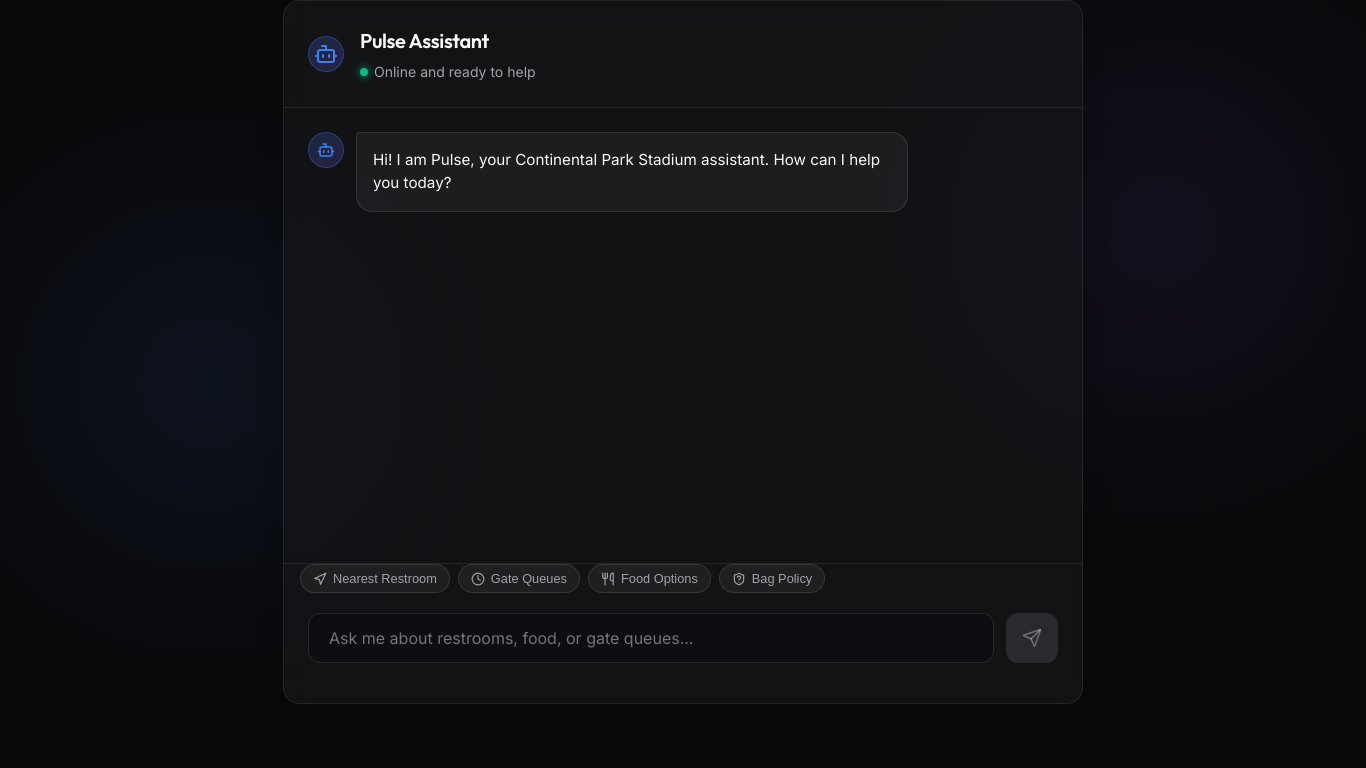
Scenario: FanChat Component › handles API errors gracefully
In the field with placeholder "Ask me about restrooms, food, or gate queues...": [651, 638] box [308,613,994,663], type "Test error"
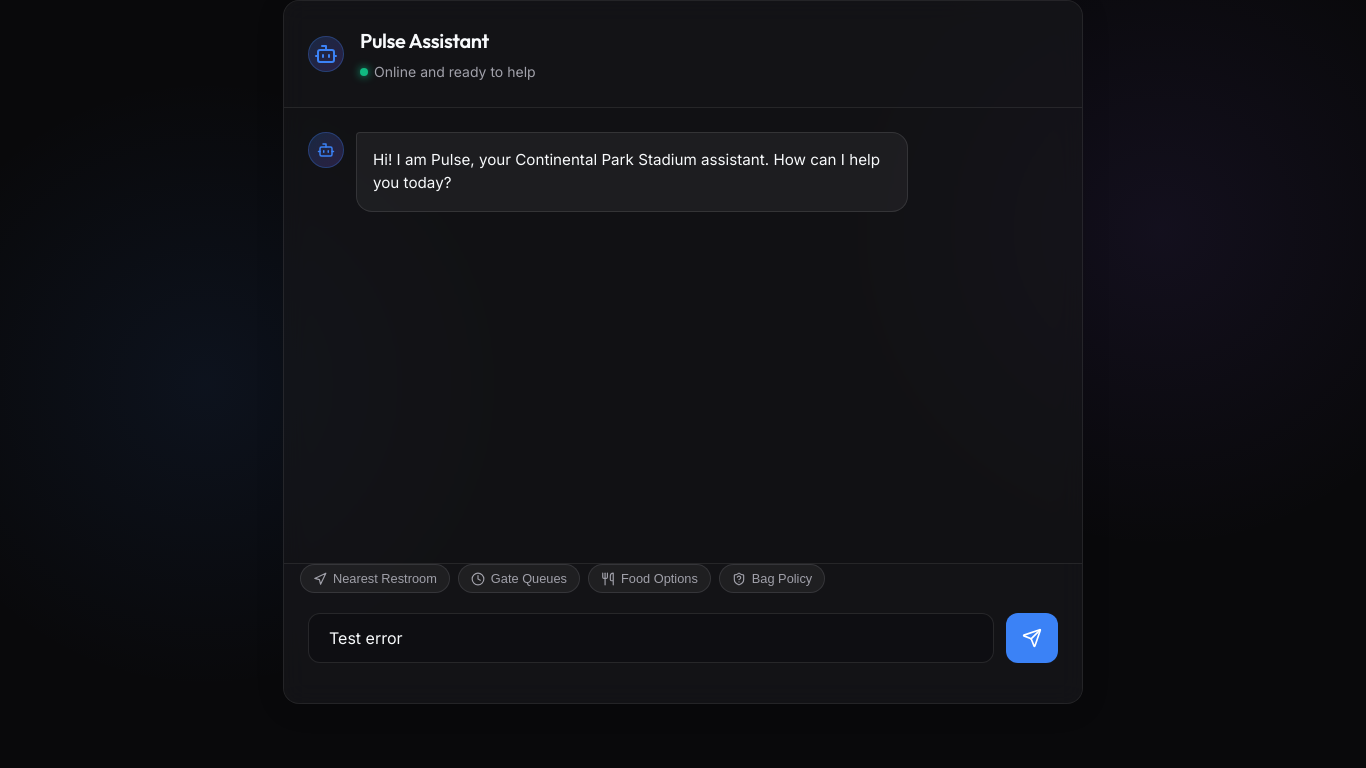
Click the button named "Send message": [1032, 638] box [1006,613,1058,663]
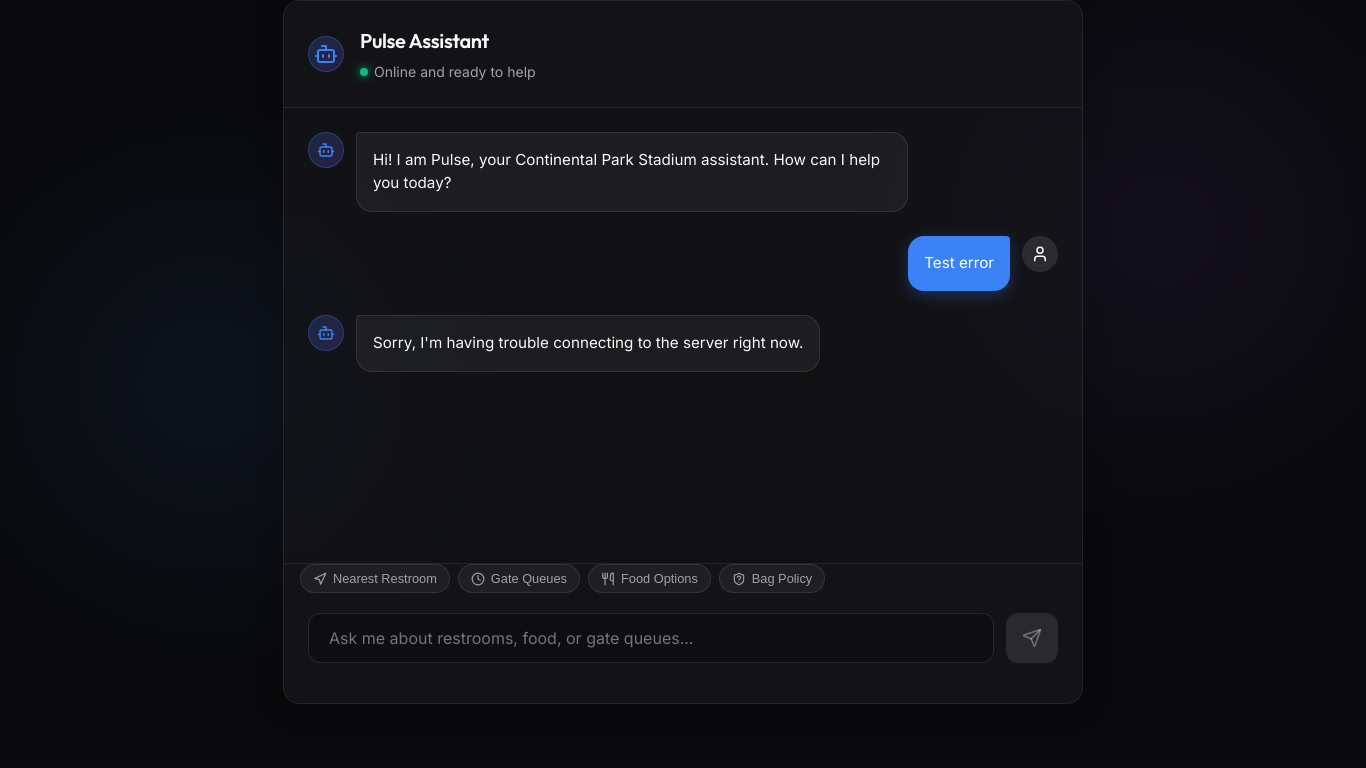
Expected: the text "Sorry, I'm having trouble connecting" is shown, [373,333,803,352]
